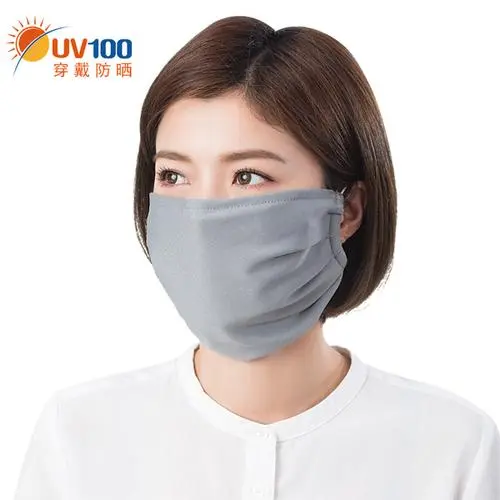withmask: (124, 19, 411, 361)
